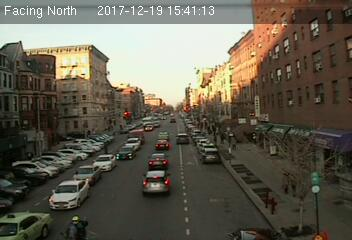car: (49, 179, 91, 211), (141, 170, 172, 195), (71, 164, 102, 184), (93, 154, 118, 171), (147, 153, 169, 169), (115, 145, 135, 160), (202, 148, 221, 162), (124, 137, 142, 149), (154, 139, 169, 151), (175, 133, 189, 145)
